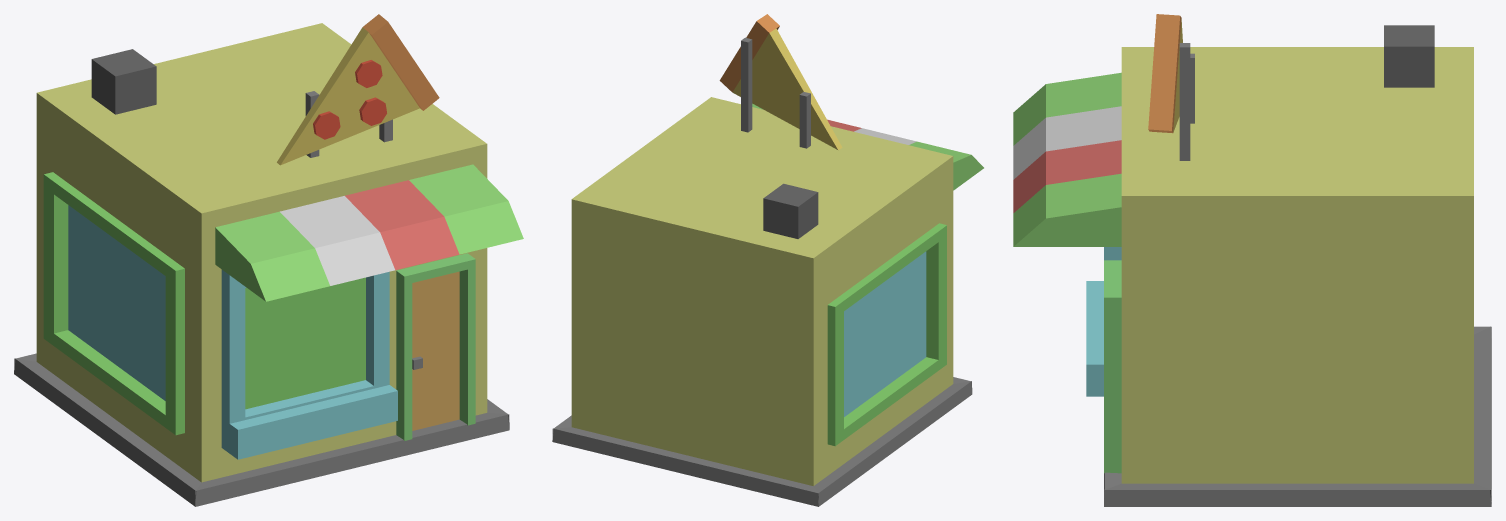
File: pizzaBuilding.fbx
3 views of the same model, side by side, from view 1: azimuth 30°, elevation 25°; view 2: azimuth 150°, elevation 25°; view 3: azimuth 270°, elevation 25° (orthographic). The views are drawn at different scales.
Parts seen in each view (by area): view 1: Cube, Cube.001, Cube.002, Cylinder, Cube.003, Cube.004; view 2: Cube, Cube.002, Cube.003, Cube.004, Cylinder; view 3: Cube, Cylinder, Cube.003, Cube.004, Cube.001.
Boxes of the visible parts, x1=… form: Cube: x1=14, y1=23, x2=509, y2=506; Cube.001: x1=221, y1=269, x2=397, y2=459; Cube.002: x1=43, y1=172, x2=184, y2=435; Cylinder: x1=215, y1=164, x2=523, y2=301; Cube.003: x1=277, y1=14, x2=439, y2=165; Cube.004: x1=91, y1=49, x2=156, y2=114; Cube: x1=552, y1=37, x2=972, y2=506; Cube.002: x1=827, y1=223, x2=946, y2=446; Cube.003: x1=719, y1=14, x2=842, y2=150; Cube.004: x1=763, y1=183, x2=818, y2=238; Cylinder: x1=752, y1=103, x2=983, y2=190; Cube: x1=1104, y1=43, x2=1491, y2=506; Cylinder: x1=1013, y1=72, x2=1121, y2=246; Cube.003: x1=1148, y1=14, x2=1182, y2=133; Cube.004: x1=1384, y1=25, x2=1434, y2=87; Cube.001: x1=1086, y1=247, x2=1121, y2=396.
Bounding box in the file's own units: 220 × 277 × 272.
